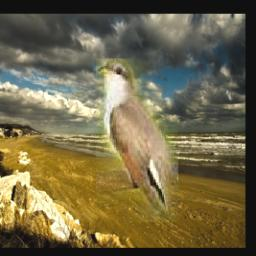Cuckoo: (96, 59, 178, 223)
